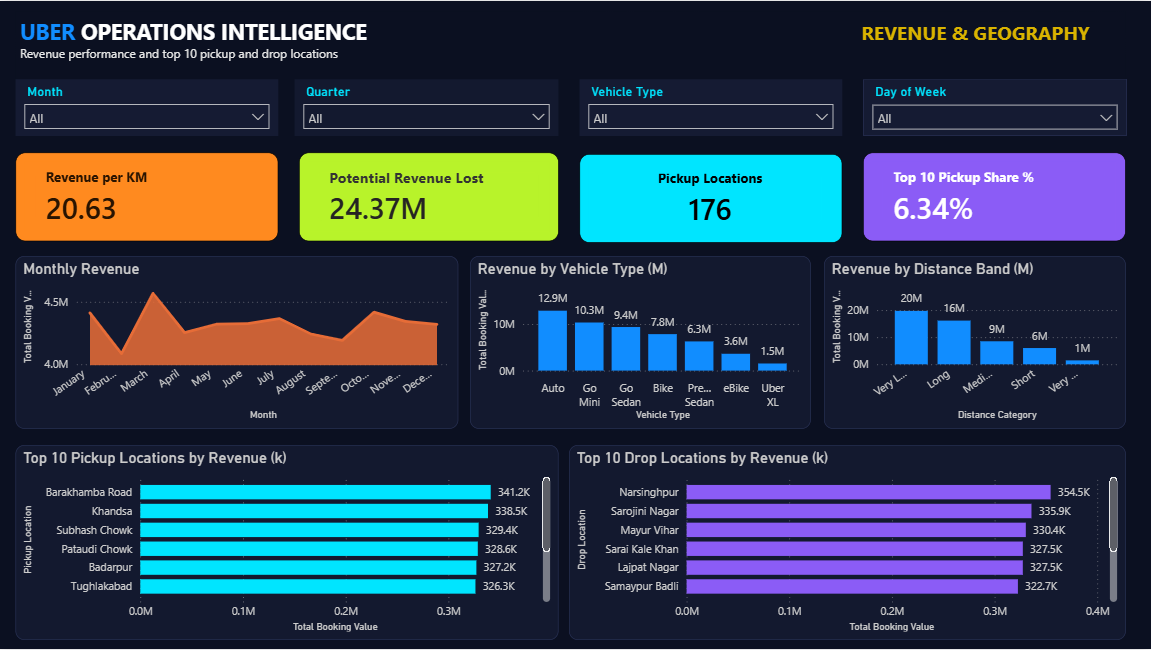

This screenshot's page, from the dashboard's own definition file:
{"tool":"powerbi","page":{"name":"Revenue & Geography","canvas":[1280,720],"ordinal":3},"visuals":[{"type":"cardVisual","fields":{"Data":["uber_ride_data.Revenue per KM"]},"box":[18.3,168.3,291.7,98.3],"z":0},{"type":"cardVisual","fields":{"Data":["uber_ride_data.Potential Revenue Lost"]},"box":[333.3,168.3,288.3,98.3],"z":1000},{"type":"cardVisual","fields":{"Data":["uber_ride_data.Pickup Locations"]},"box":[645,170,291.7,98.3],"z":2000},{"type":"cardVisual","fields":{"Data":["uber_ride_data.Top 10 Pickup Share %"]},"box":[960,168.3,291.7,98.3],"z":3000},{"type":"slicer","fields":{"Values":["Calendar.Year Month"]},"box":[18.3,86.7,291.7,63.3],"z":4000},{"type":"slicer","fields":{"Values":["Calendar.Quarter"]},"box":[328.3,86.7,293.3,63.3],"z":5000},{"type":"slicer","fields":{"Values":["uber_ride_data.Vehicle Type"]},"box":[645,86.7,291.7,63.3],"z":6000},{"type":"slicer","fields":{"Values":["Calendar.Day of Week"]},"box":[960,86.7,293.3,63.3],"z":7000},{"type":"areaChart","title":"Monthly Revenue","fields":{"Category":["Calendar.Date.Variation.Date Hierarchy.Month"],"Y":["uber_ride_data.Total Booking Value"]},"box":[18.3,283.3,491.7,191.7],"z":7001},{"type":"clusteredColumnChart","title":"Revenue by Vehicle Type (M)","fields":{"Category":["uber_ride_data.Vehicle Type"],"Y":["uber_ride_data.Total Booking Value"]},"box":[523.3,283.3,378.3,191.7],"z":7002},{"type":"clusteredColumnChart","title":"Revenue by Distance Band (M)","fields":{"Y":["uber_ride_data.Total Booking Value"],"Category":["uber_ride_data.Distance Category"]},"box":[916.7,283.3,335,191.7],"z":7003},{"type":"clusteredBarChart","title":"Top 10 Pickup Locations by Revenue (k)","fields":{"Category":["uber_ride_data.Pickup Location"],"Y":["uber_ride_data.Total Booking Value"]},"box":[18.3,493.3,603.3,216.7],"z":7004},{"type":"textbox","box":[18.3,11.7,1233.3,75],"z":7005},{"type":"clusteredBarChart","title":"Top 10 Drop Locations by Revenue (k)","fields":{"Category":["uber_ride_data.Drop Location"],"Y":["uber_ride_data.Total Booking Value"]},"box":[633.3,493.3,618.3,216.7],"z":7006}]}

Visuals, with their boxes in screenshot pixels (x1, y1, x2, y2), scaled from the page's 1280x720 canvas onto the 1151x650 screenshot:
cardVisual - uber_ride_data.Revenue per KM: [16,152,279,241]
cardVisual - uber_ride_data.Potential Revenue Lost: [300,152,559,241]
cardVisual - uber_ride_data.Pickup Locations: [580,153,842,242]
cardVisual - uber_ride_data.Top 10 Pickup Share %: [863,152,1126,241]
slicer - Calendar.Year Month: [16,78,279,135]
slicer - Calendar.Quarter: [295,78,559,135]
slicer - uber_ride_data.Vehicle Type: [580,78,842,135]
slicer - Calendar.Day of Week: [863,78,1127,135]
"Monthly Revenue" areaChart: [16,256,459,429]
"Revenue by Vehicle Type (M)" clusteredColumnChart: [471,256,811,429]
"Revenue by Distance Band (M)" clusteredColumnChart: [824,256,1126,429]
"Top 10 Pickup Locations by Revenue (k)" clusteredBarChart: [16,445,559,641]
textbox: [16,11,1125,78]
"Top 10 Drop Locations by Revenue (k)" clusteredBarChart: [569,445,1125,641]
